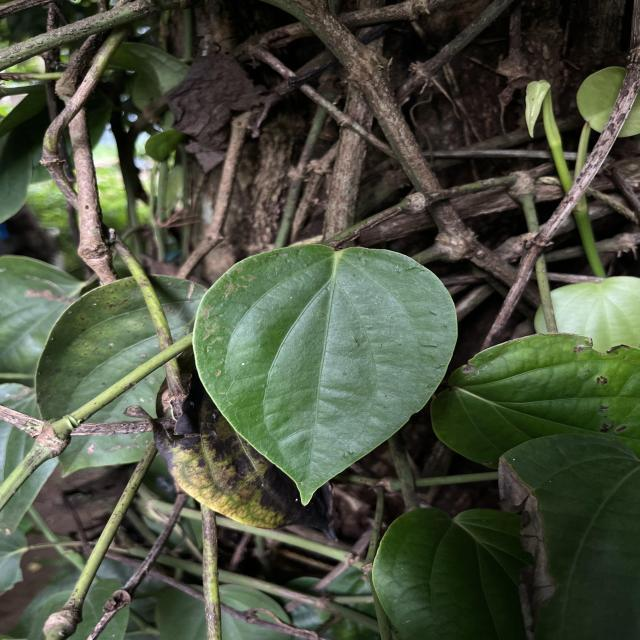Piper nigrum: (188, 242, 460, 507)
